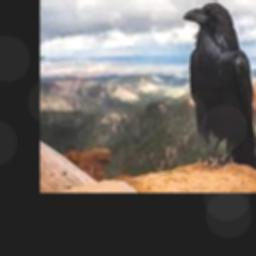Crow: (182, 1, 256, 169)
